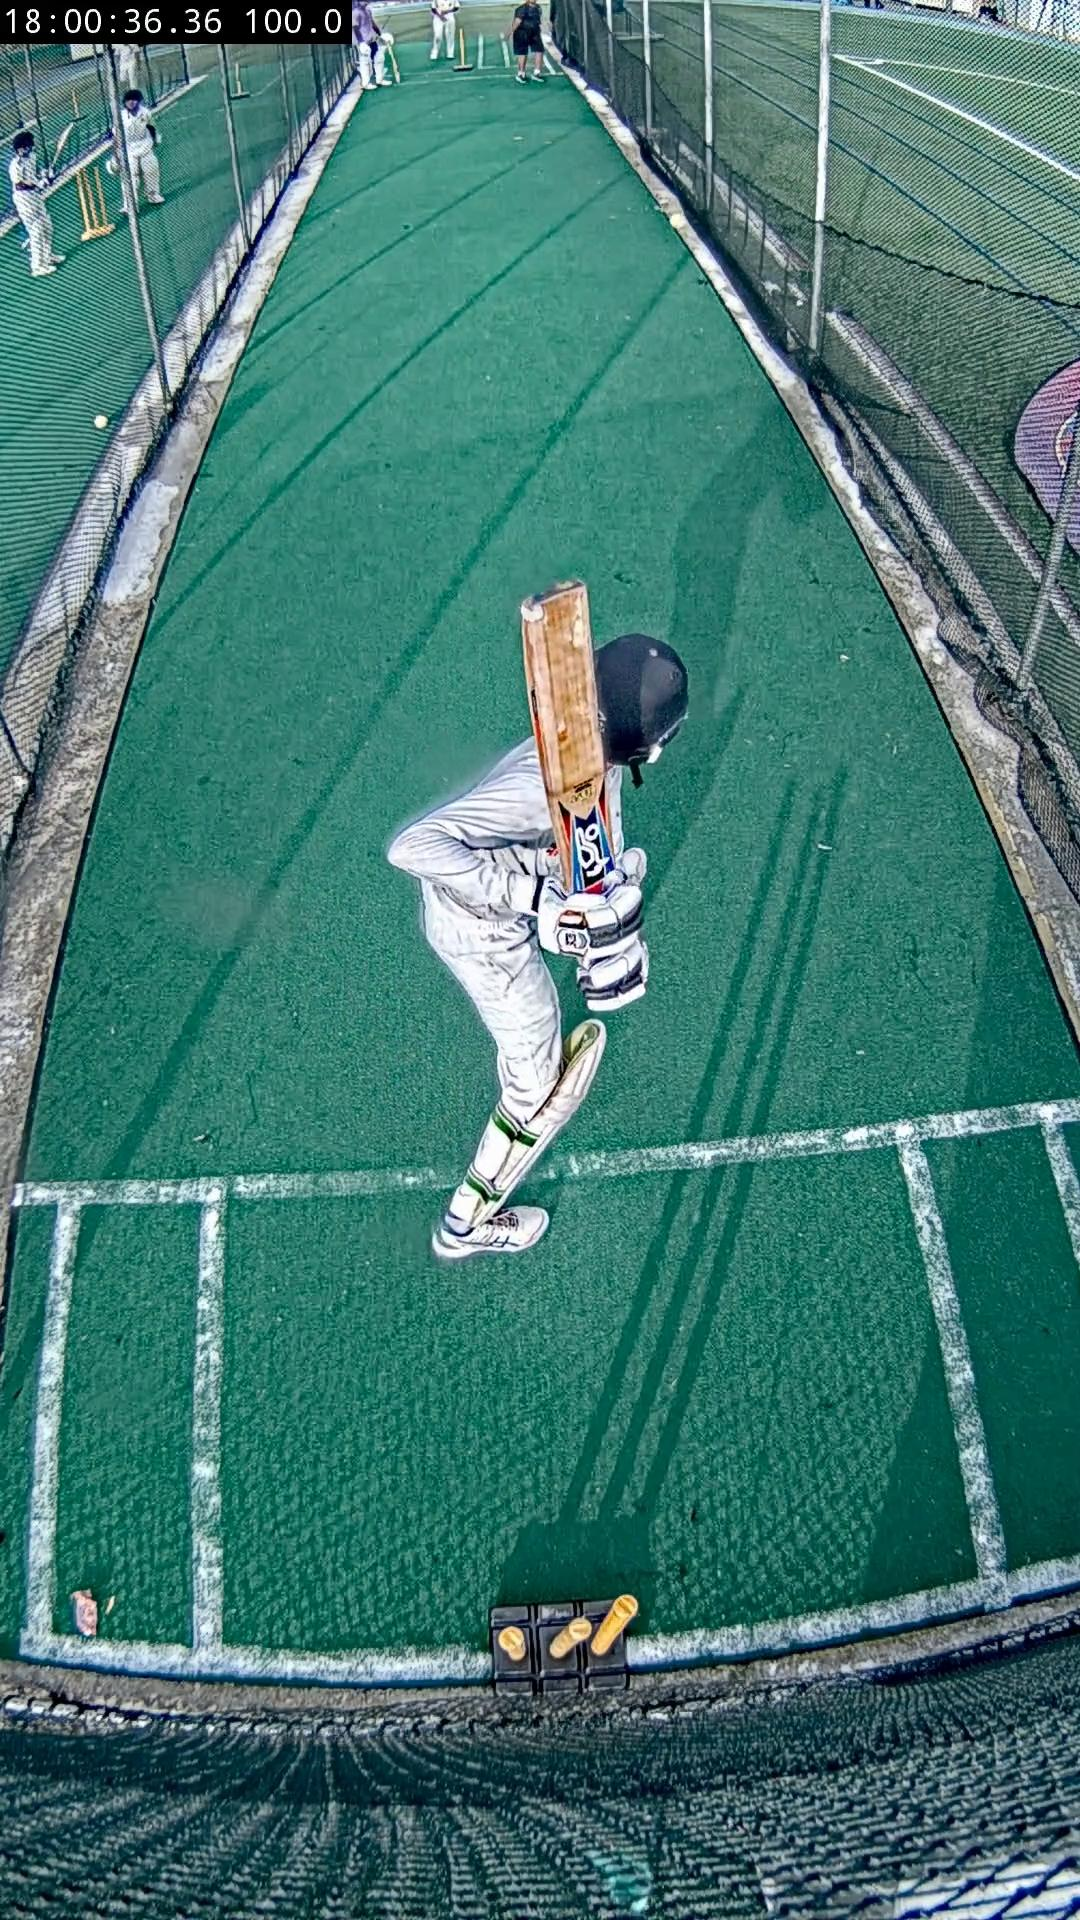ball: (667, 214, 686, 228)
bat: (521, 582, 615, 893)
gloves: (537, 852, 649, 1013)
helmet: (596, 634, 690, 765)
pads: (492, 1021, 608, 1209)
stumps: (492, 1594, 637, 1695)
